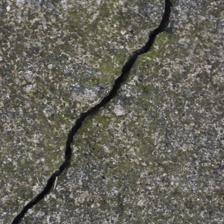Crack: (18, 5, 175, 224)
